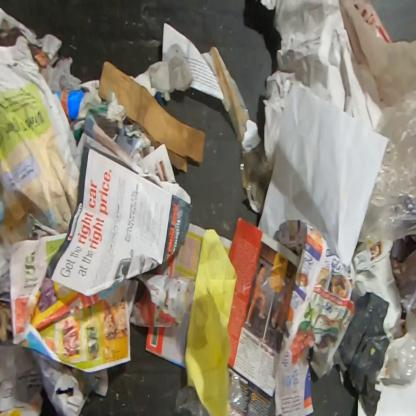cardboard: (97, 60, 206, 174)
soft_plastic: (357, 88, 416, 251), (385, 288, 415, 382), (176, 385, 210, 416), (229, 372, 245, 416)
